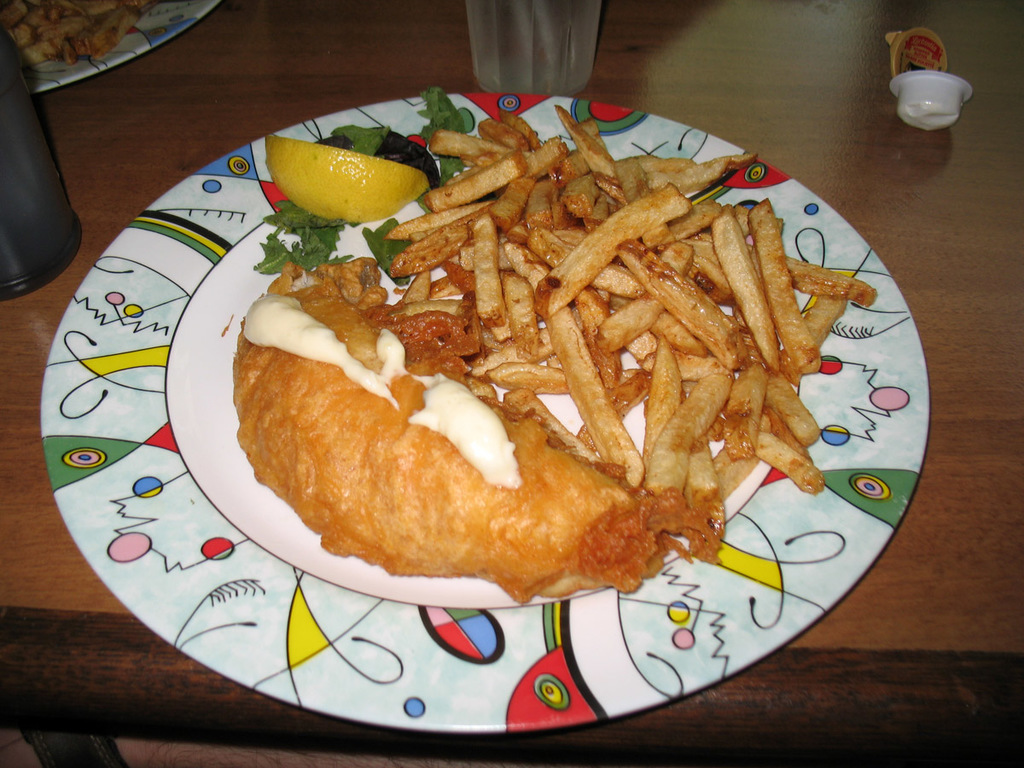French fries: (443, 104, 841, 569), (0, 0, 157, 68)
